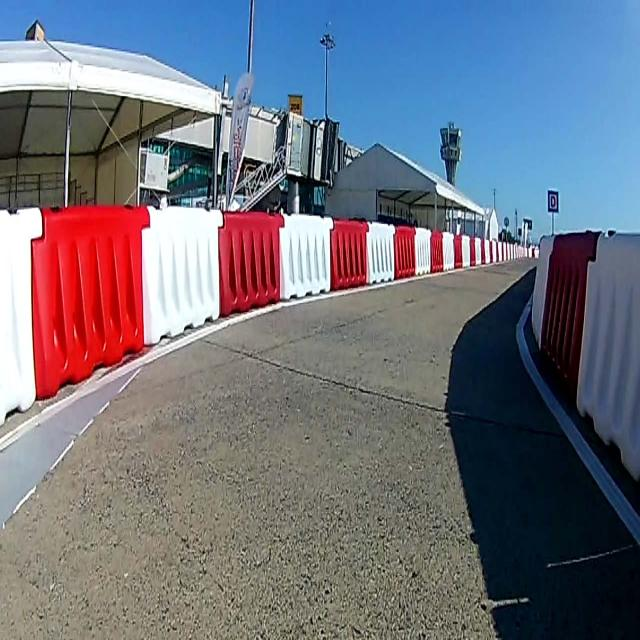durak: (547, 191, 557, 213)
